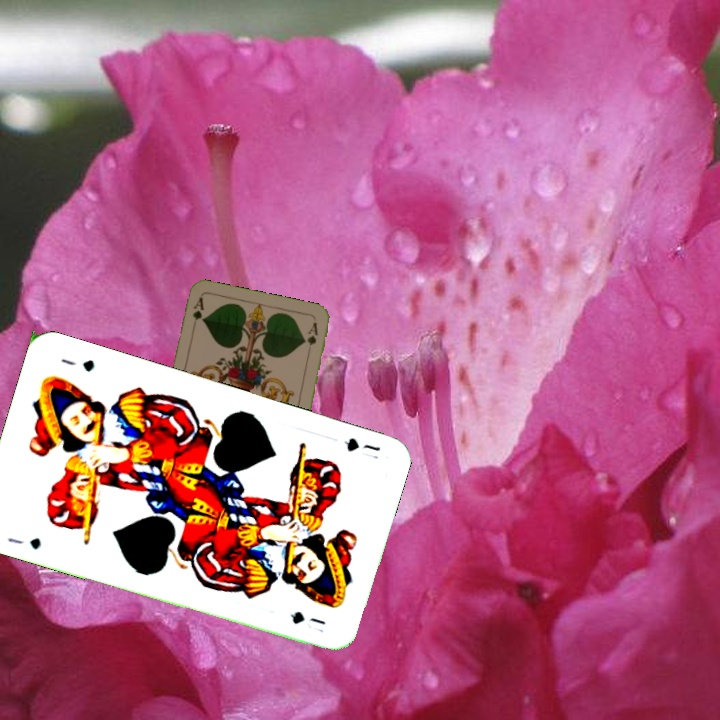GA: (188, 294, 206, 334)
GU: (340, 433, 383, 455), (3, 533, 44, 553)
